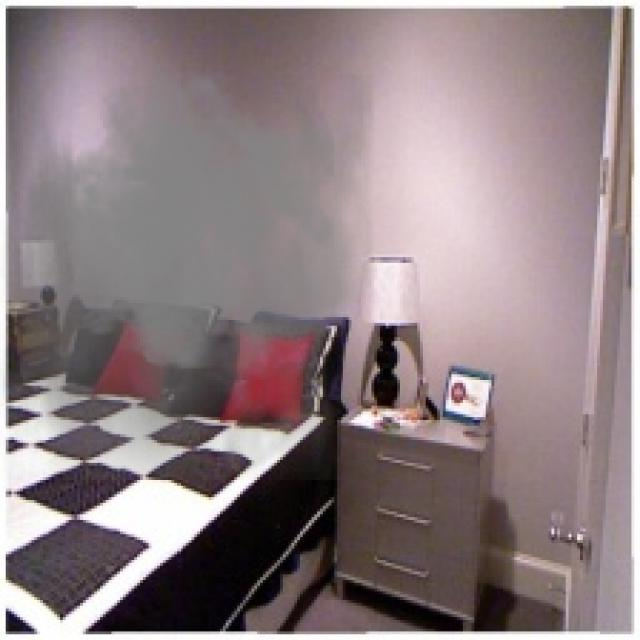smoke: (0, 60, 375, 481)
